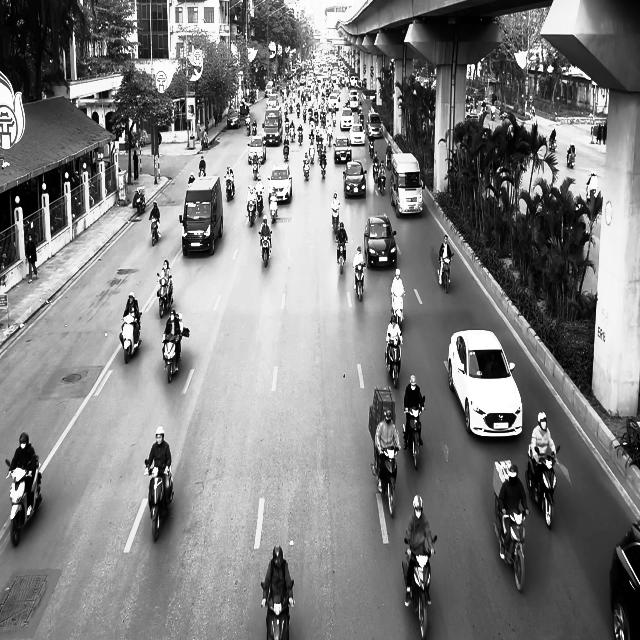car: (445, 329, 523, 438), (609, 520, 640, 640), (364, 214, 397, 268), (267, 162, 292, 203), (342, 160, 367, 198), (248, 135, 266, 164), (334, 136, 352, 163), (227, 109, 240, 129)
motorbike: (402, 534, 437, 639), (5, 455, 42, 546), (494, 496, 528, 593), (525, 444, 560, 528), (144, 458, 174, 542), (371, 444, 399, 518), (260, 579, 294, 639), (402, 402, 424, 470), (163, 329, 189, 383), (119, 311, 142, 364), (385, 333, 403, 388), (157, 272, 173, 318), (438, 254, 454, 293), (390, 288, 404, 326), (258, 230, 272, 266), (353, 263, 365, 301), (336, 237, 348, 274), (150, 217, 160, 246), (246, 198, 256, 227), (224, 175, 235, 201), (135, 188, 146, 214), (269, 194, 278, 223), (331, 204, 340, 232), (255, 188, 263, 216), (566, 146, 576, 168), (252, 158, 260, 180), (303, 157, 310, 180), (549, 136, 556, 151)
truck: (179, 175, 223, 256)
